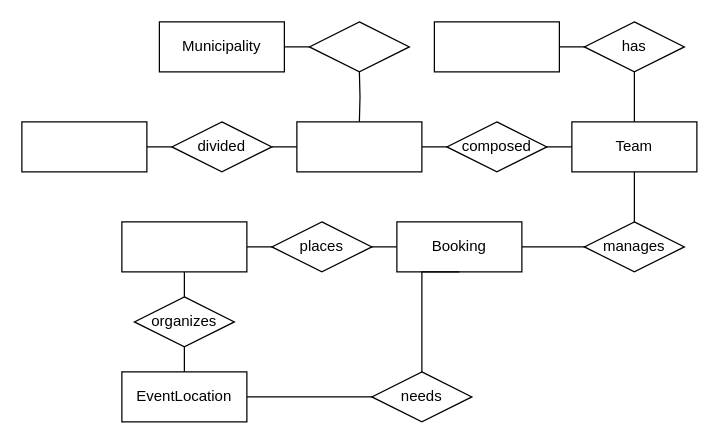
The diagram is 719 pixels wide and 444 high, and some of its shapes have lost their labels. The box of each missing label's shape, as (x1, y1, x2, y2) in pixels:
Central Office: (21, 121, 147, 172)
Customer: (121, 221, 247, 272)
Depot: (296, 121, 422, 172)
Members: (433, 21, 559, 72)
operates: (308, 21, 409, 72)
